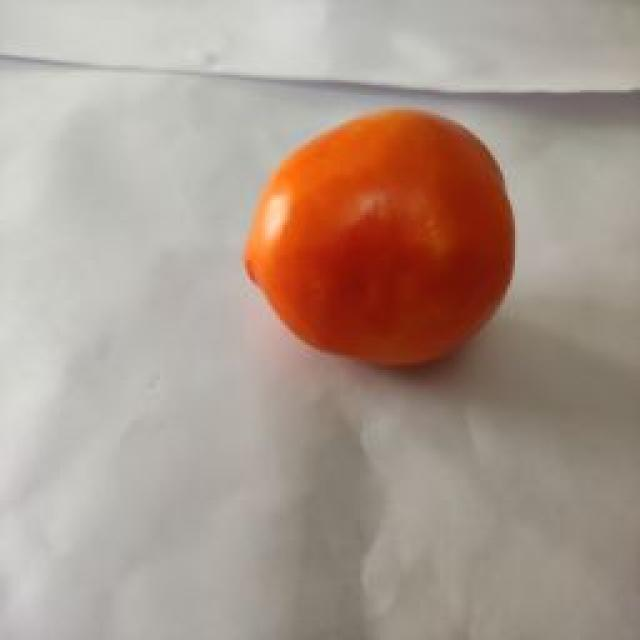tomato: (245, 109, 516, 365)
